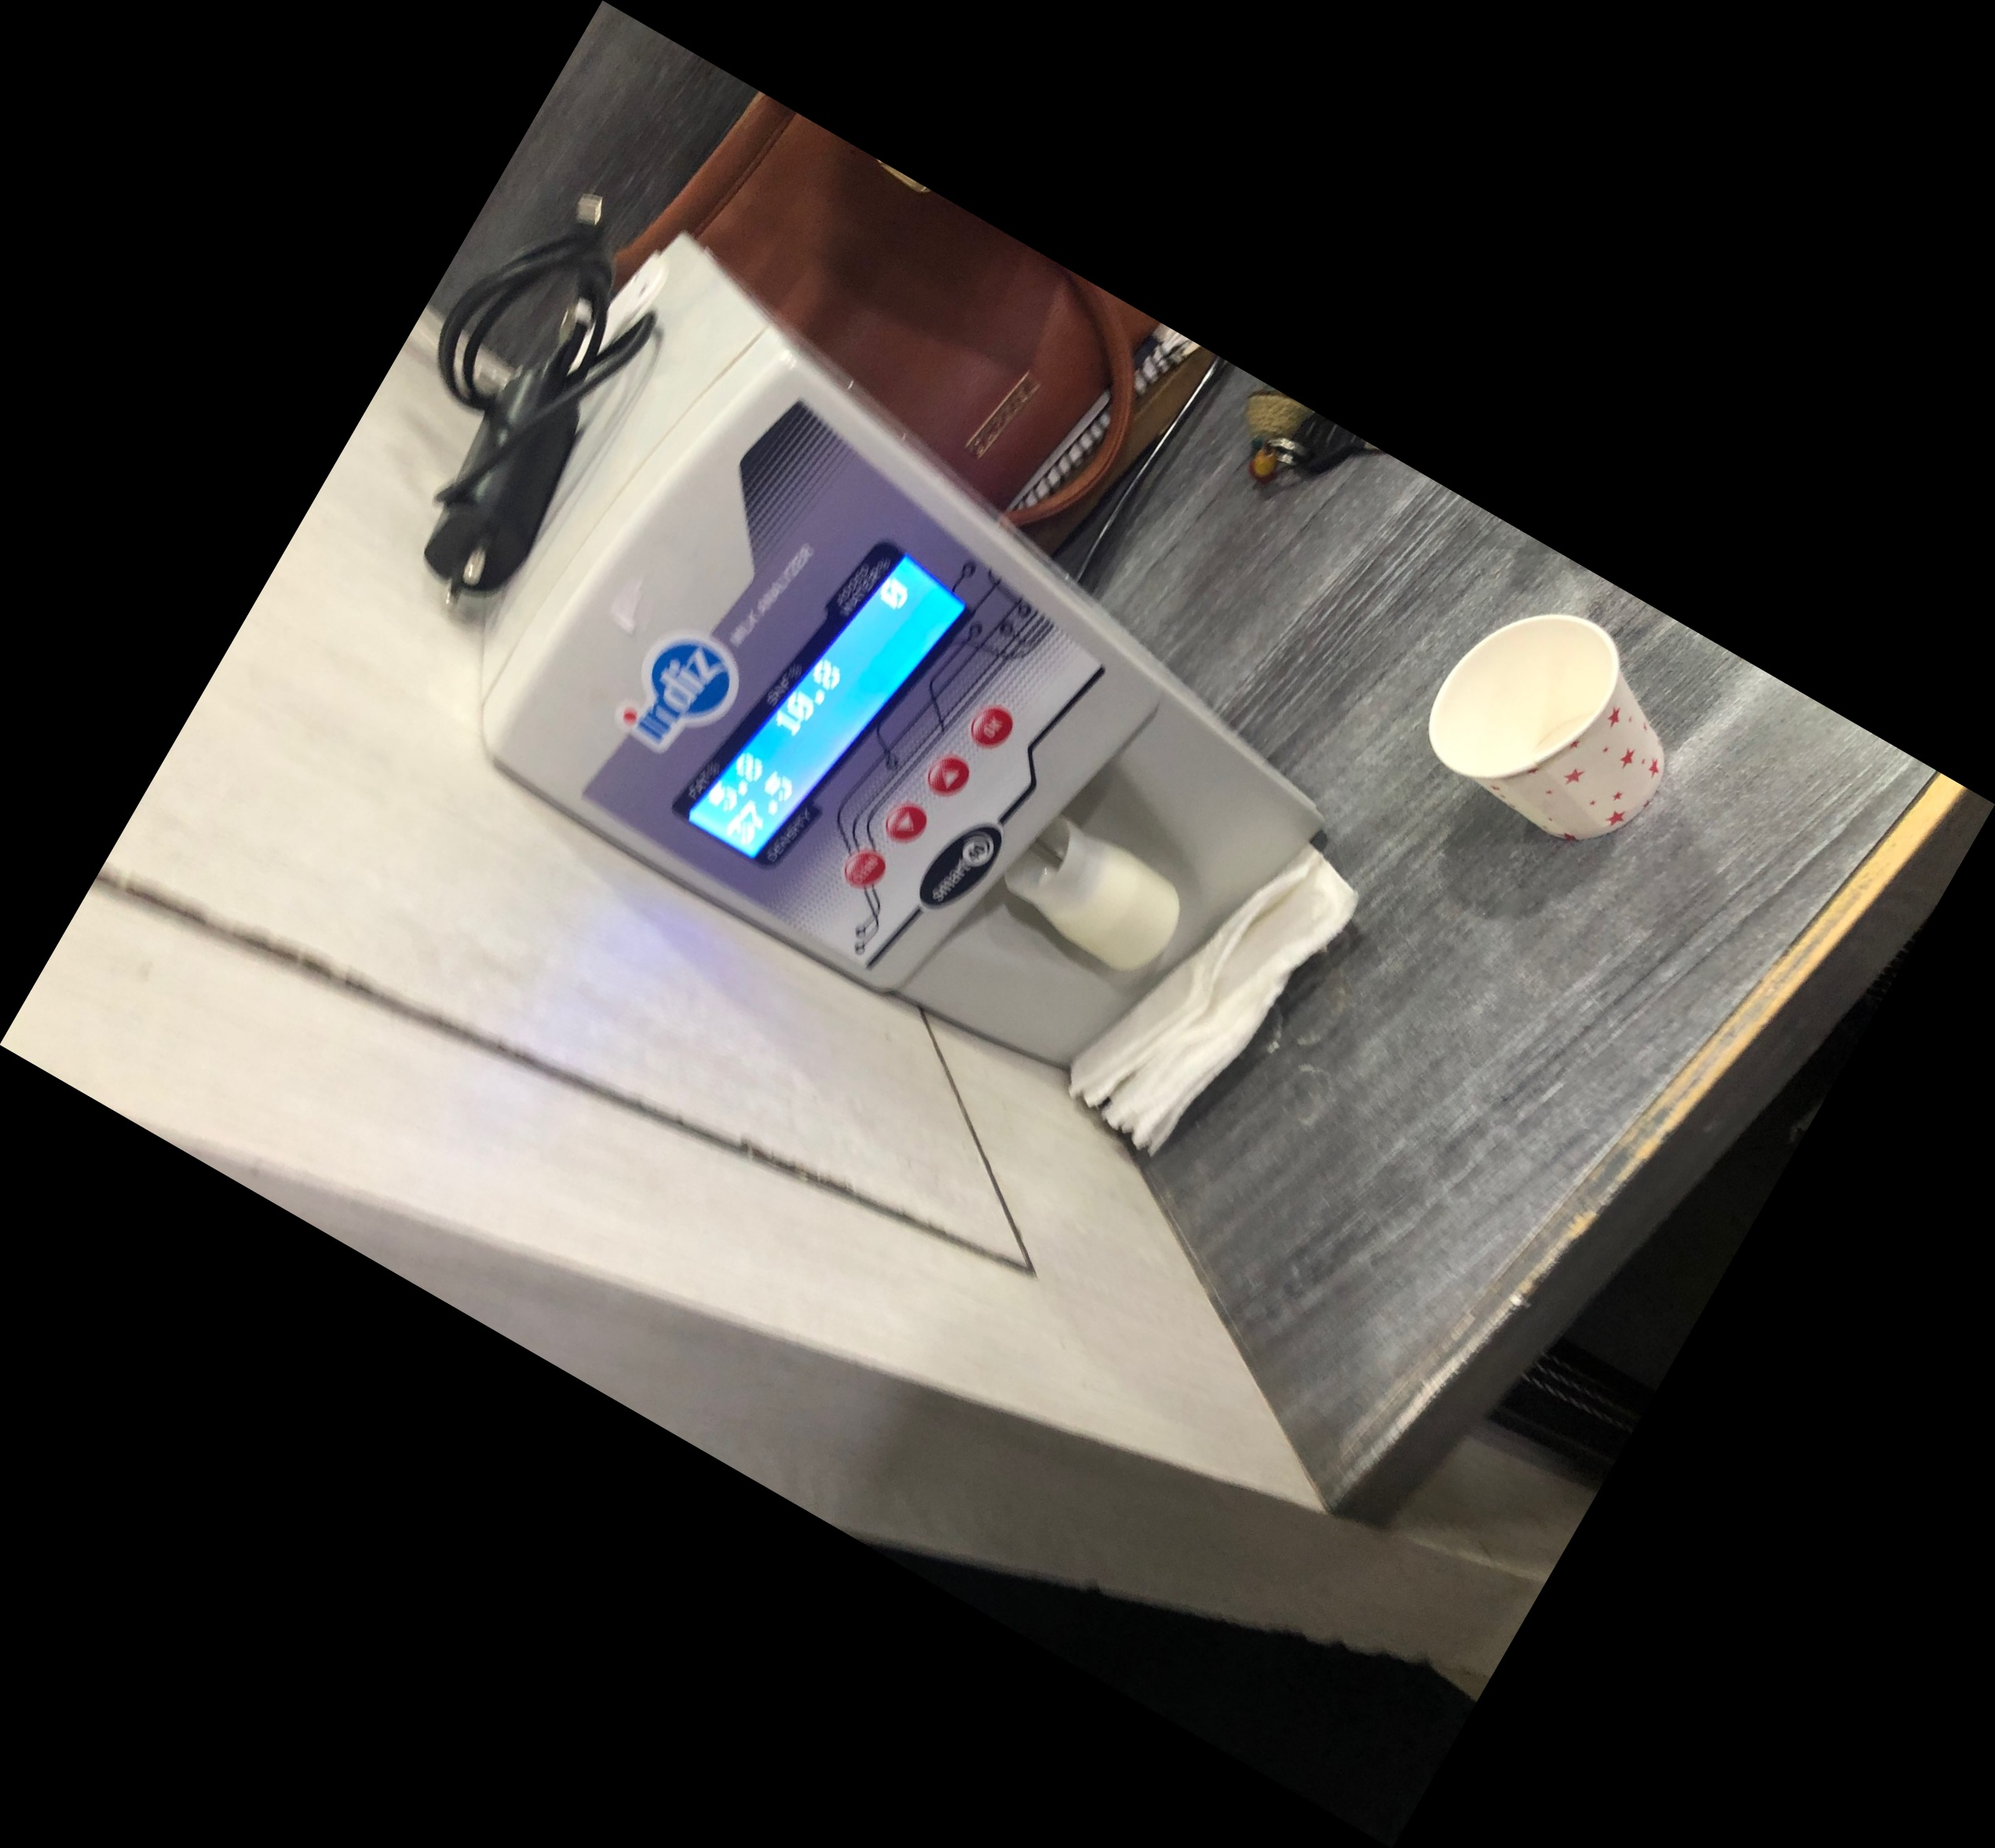lcd: (653, 511, 978, 888)
